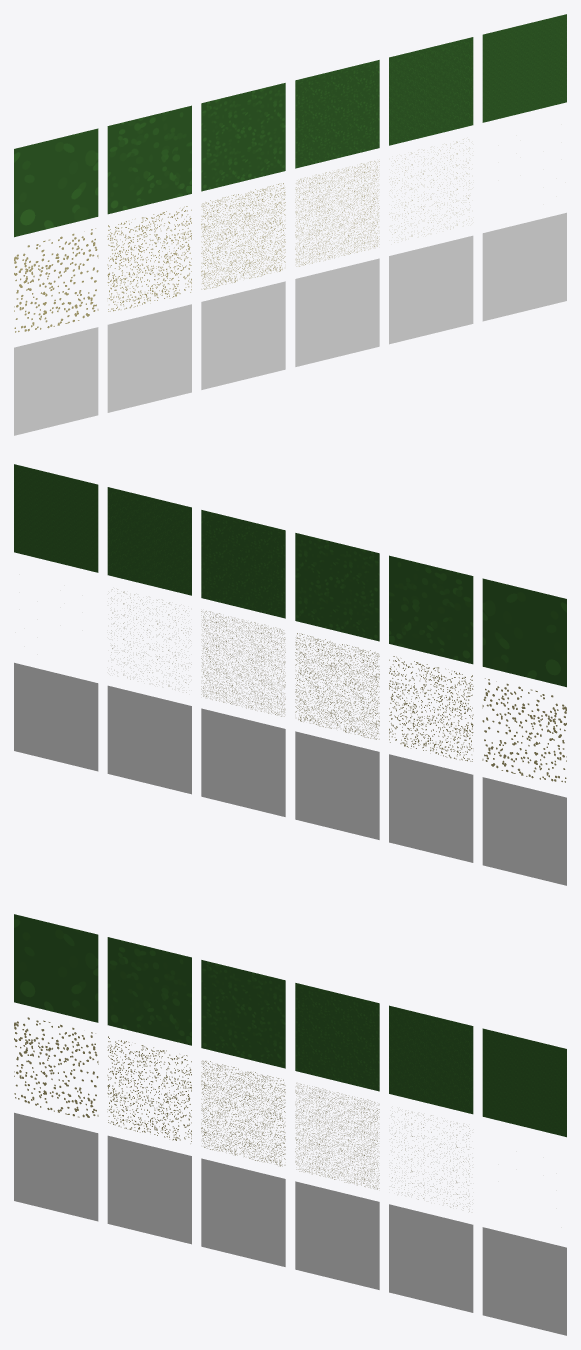
Rendered from alpha_ladder_fixture.gltf.
3 renders of one model, top to bottom at view 1: azimuth 30°, elevation 25°; view 2: azimuth 150°, elevation 25°; view 3: azimuth 330°, elevation 25°, orthographic.
Visible parts, largest first — view 1: ladder_leaves, ladder_dots, ladder_specks; view 2: ladder_leaves, ladder_dots, ladder_specks; view 3: ladder_leaves, ladder_dots, ladder_specks.
Boxes of the visible parts, <box> form: ladder_leaves: <box>14,14,566,237</box>; ladder_dots: <box>14,212,566,435</box>; ladder_specks: <box>14,139,469,332</box>; ladder_leaves: <box>14,464,566,687</box>; ladder_dots: <box>14,662,566,885</box>; ladder_specks: <box>111,589,566,782</box>; ladder_leaves: <box>14,914,566,1137</box>; ladder_dots: <box>14,1112,566,1335</box>; ladder_specks: <box>14,1017,469,1211</box>.
Bounding box in the file's own units: 4.89 × 2.42 × 0.
3 materials, 3 textured.
